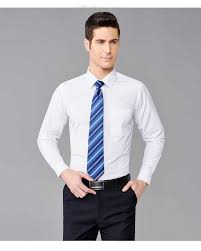F_belt: (83, 179, 111, 191)
F_shirt: (35, 67, 181, 178)
F_tie: (85, 81, 109, 180)
